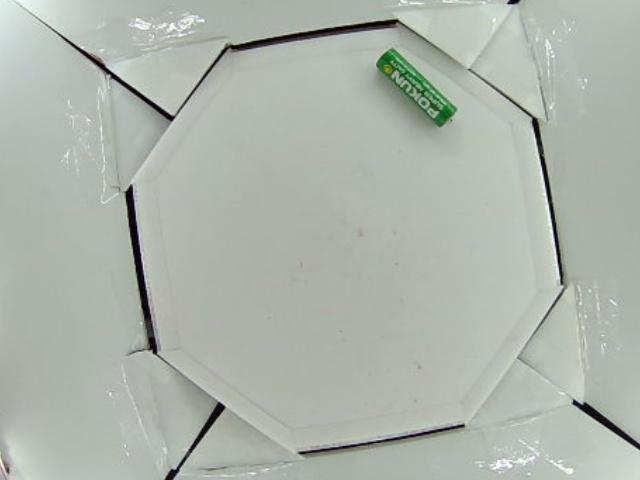Battery: (373, 47, 459, 127)
